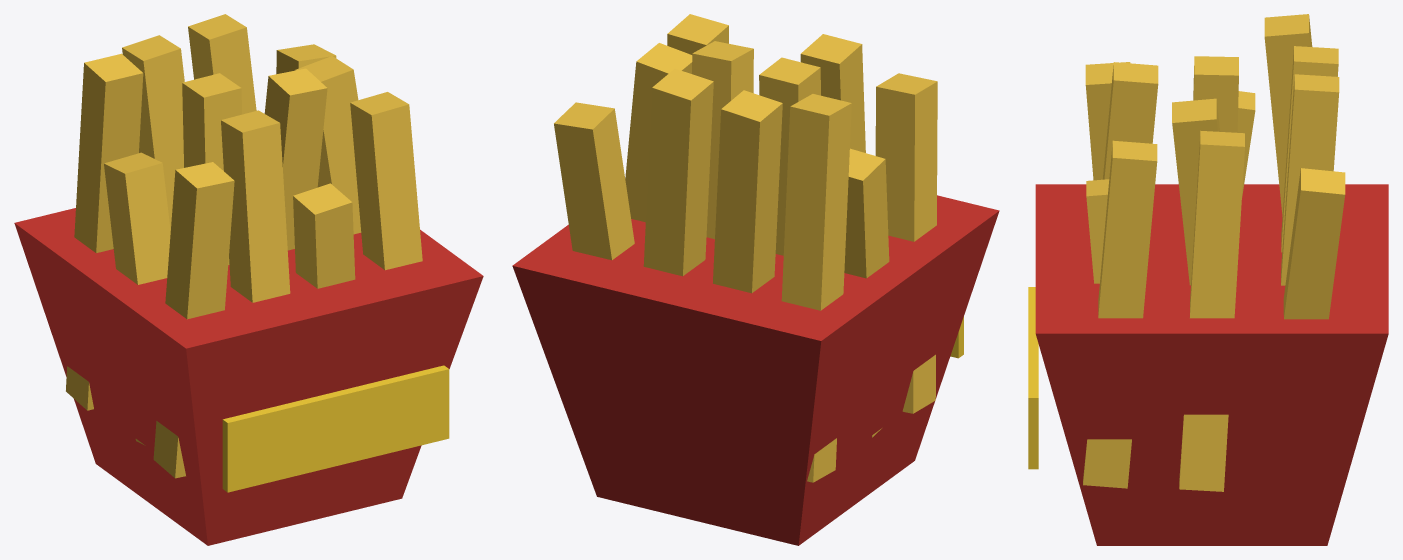
The model's file is Food_Fries.obj.
The picture shows the model from 3 angles, left to right: view 1: azimuth 30°, elevation 25°; view 2: azimuth 150°, elevation 25°; view 3: azimuth 270°, elevation 25°; orthographic projection. The views are drawn at different scales.
Size of the model in its own units: 1.34 by 1.79 by 1.37.
